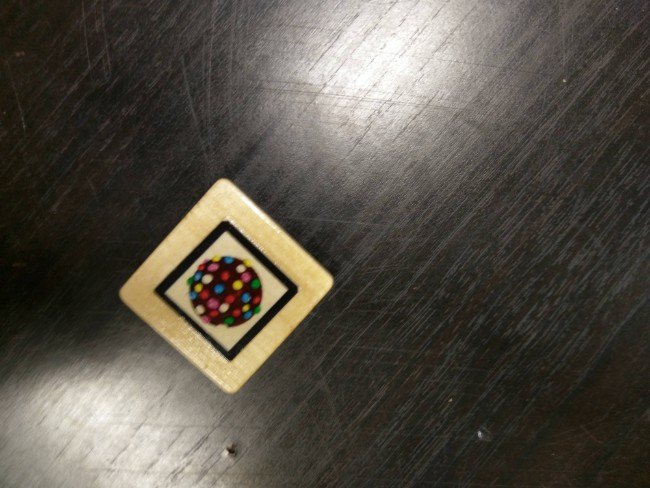cookie: (157, 220, 298, 363)
